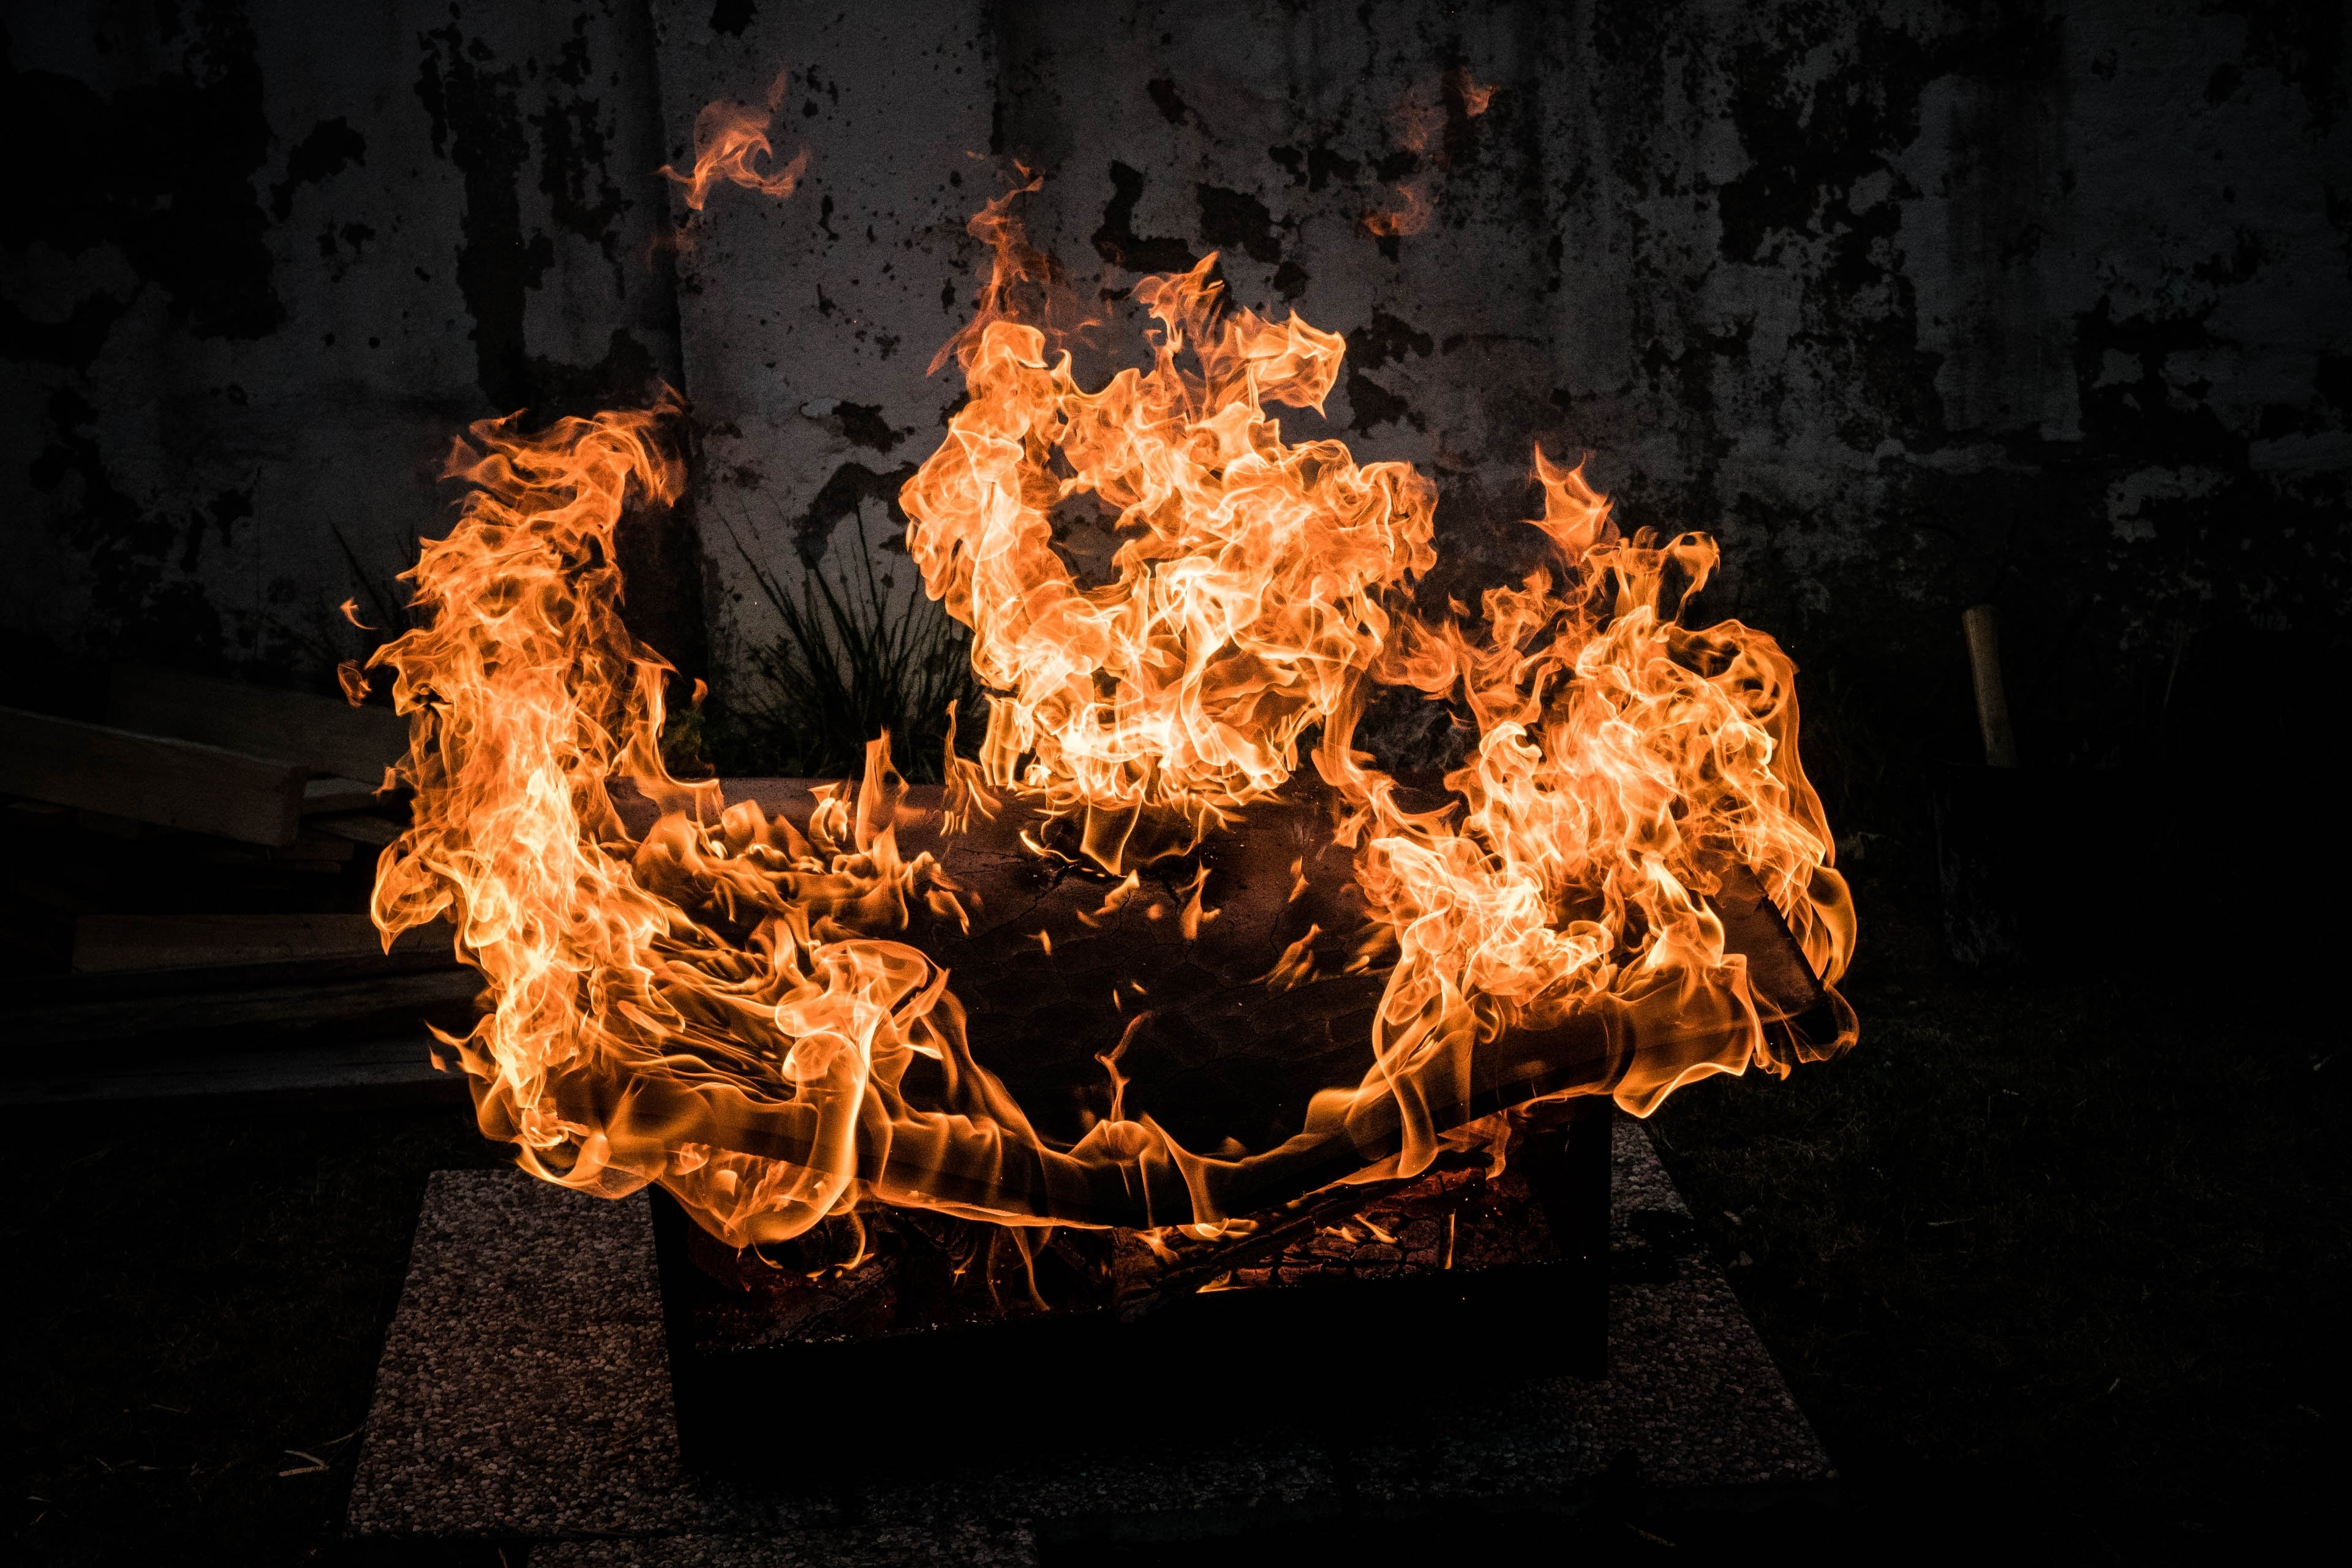fire: (389, 177, 1916, 1334), (665, 77, 810, 219)
